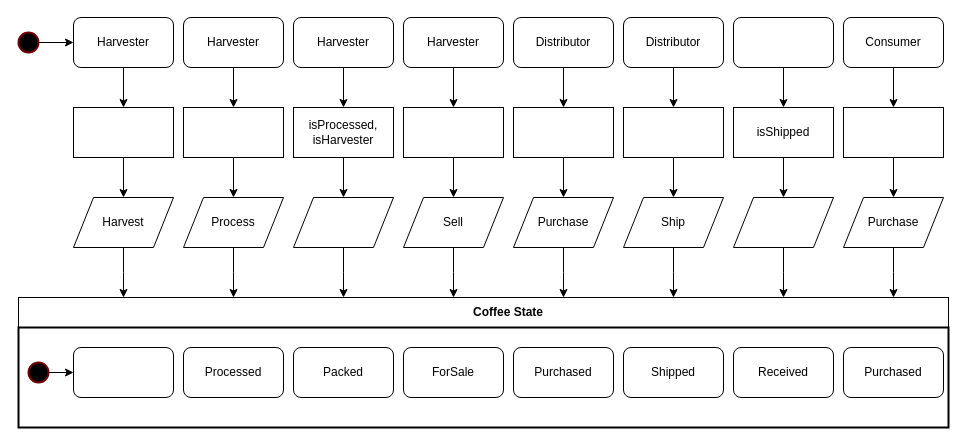
This 966x446 diagram has some shape labels left out. The shapes that lost their labels are listed below. From the top down, each one's centre as x and y in pixels, then its label:
At pixel 783 42: "Retailer".
At pixel 123 132: "isHarvester".
At pixel 233 132: "isHarvested, isHarvester".
At pixel 453 132: "isPacked, isHarvester".
At pixel 563 132: "isForSale, checkPayment, issueChange".
At pixel 673 132: "isPurchased, isDistributor".
At pixel 893 132: "isReceived".
At pixel 343 222: "Pack".
At pixel 783 222: "Receive".
At pixel 123 372: "Harvested".
